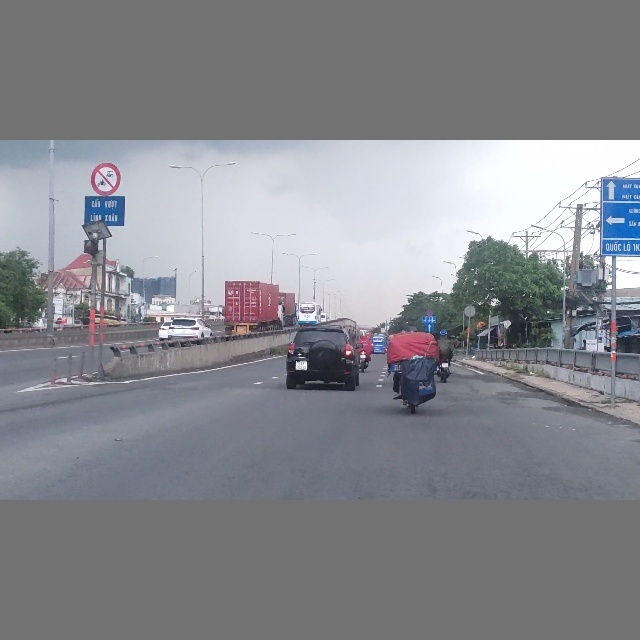I.407a: (425, 322, 434, 331)
P.111: (91, 163, 121, 196)
